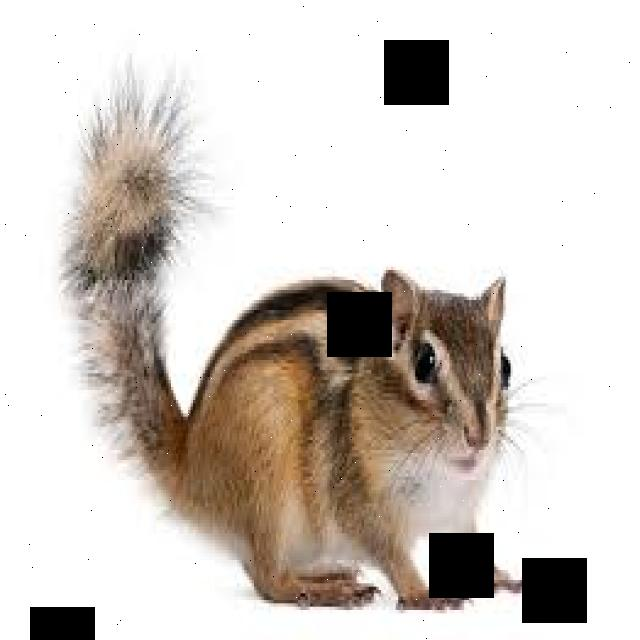squirrel: (59, 53, 538, 610)
